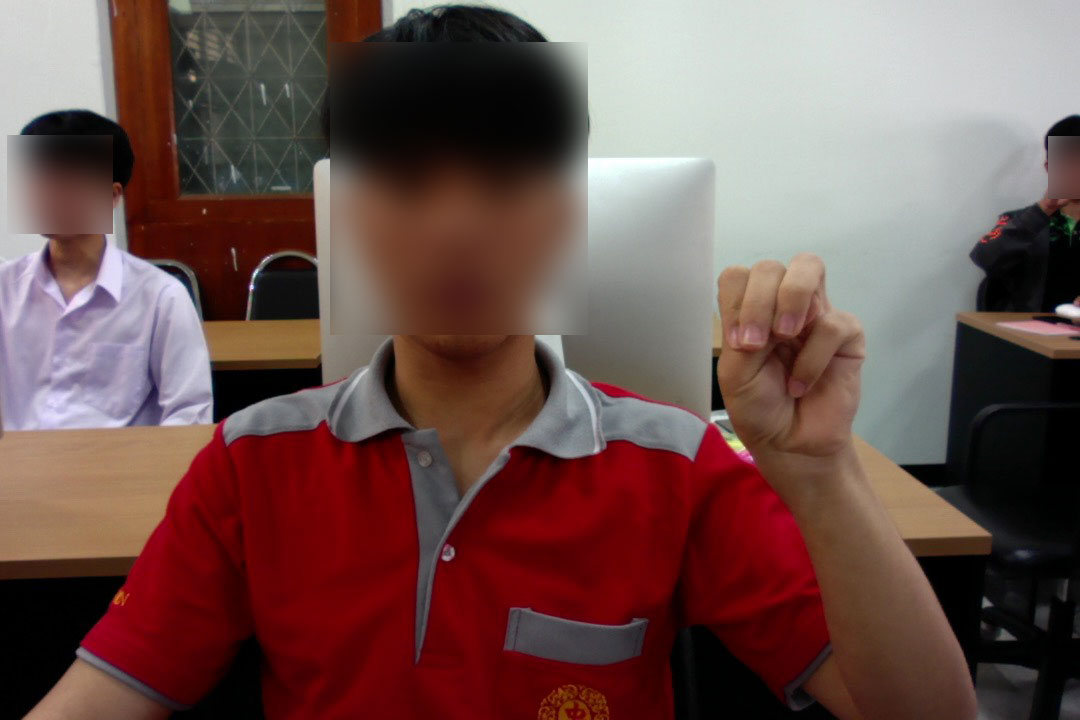mor: (714, 239, 871, 467)
